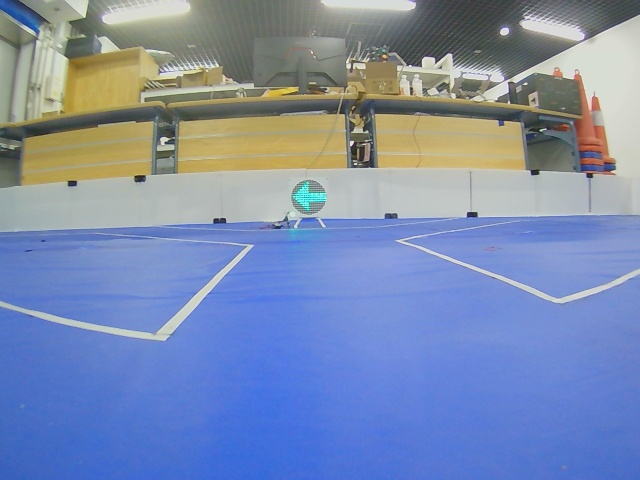left_green: (291, 180, 327, 215)
